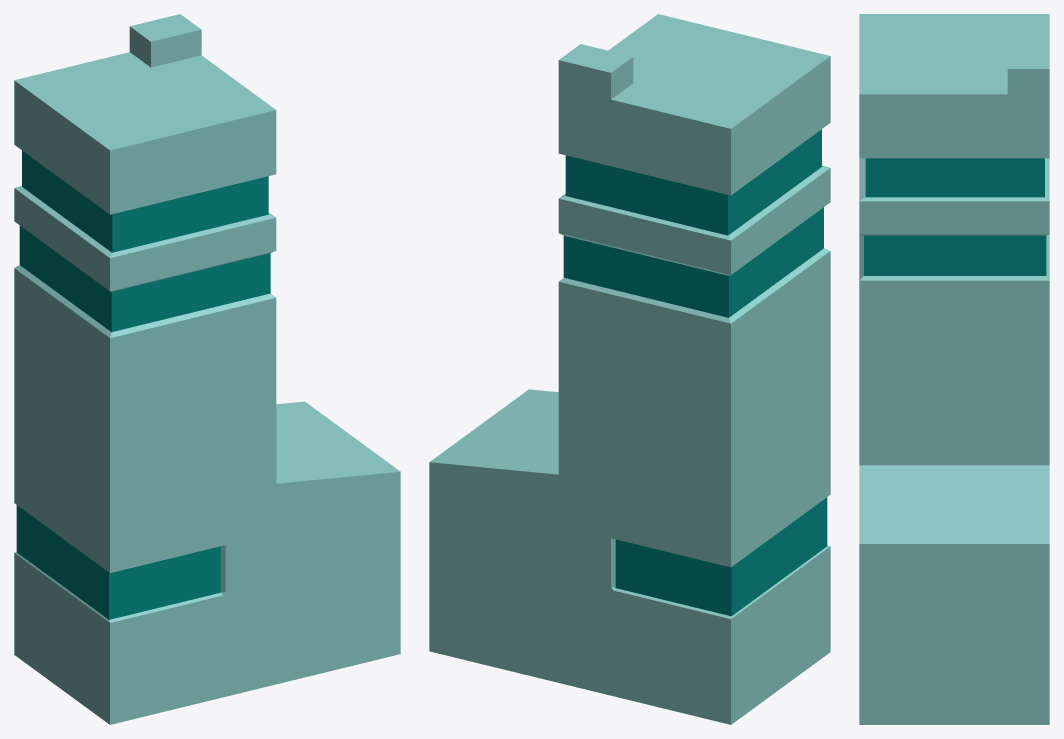
The model's file is testrendu.FBX.
The picture shows the model from 3 angles, left to right: view 1: azimuth 30°, elevation 25°; view 2: azimuth 150°, elevation 25°; view 3: azimuth 270°, elevation 25°; orthographic projection. The views are drawn at different scales.
Parts seen in each view (by area): view 1: Box001; view 2: Box001; view 3: Box001.
Boxes of the visible parts, x1,y1,x2,y2 form: Box001: (14,14,400,724); Box001: (429,14,830,724); Box001: (859,14,1049,724).
Bounding box in the file's own units: 138 × 272 × 78.74.
